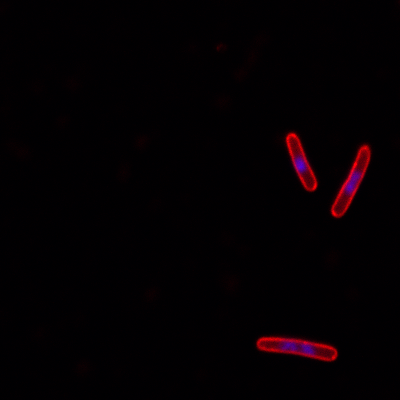Nalidixate: (331, 144, 373, 218), (257, 333, 339, 364), (283, 131, 317, 193)
